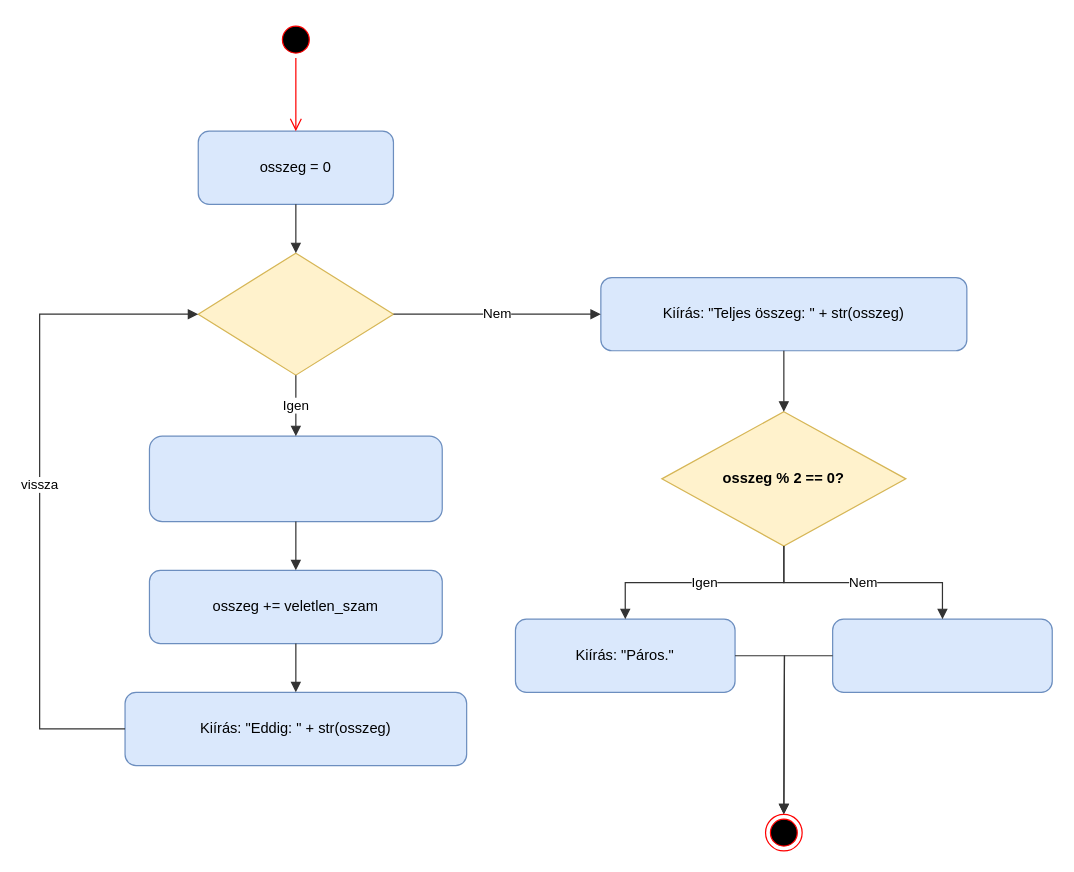
Some shapes in this 1074 by 872 pixel diagram are drawn without their labels. Here are the shapes that lost their labels. From the top down, the centre of each, then its label:
(x=295, y=313): osszeg < 100?
(x=295, y=478): Véletlen szám generálása random.randint(1, 10)
(x=941, y=655): Kiírás: "Páratlan."
